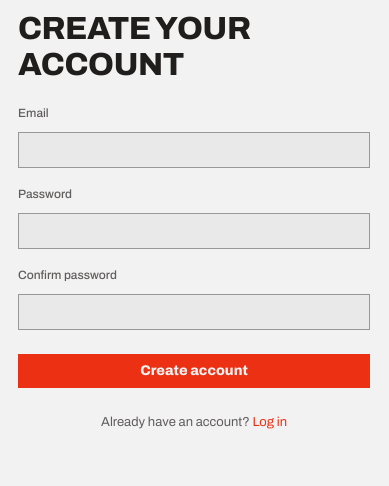
Scenario: RegisterPage › rejects a password shorter than 12 characters
Type "a@b.com" into the field labelled "Email" at {"x": 194, "y": 150}, box [18, 132, 370, 168]
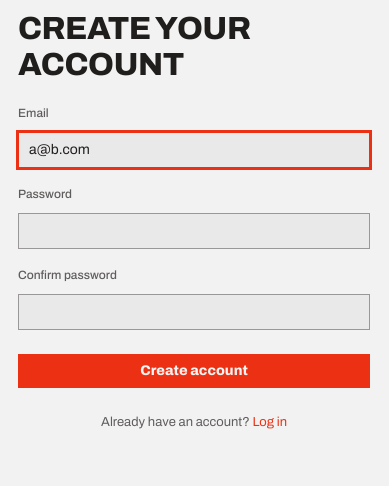
Type "short" into the password field labelled "Password" at {"x": 194, "y": 231}, box [18, 213, 370, 249]
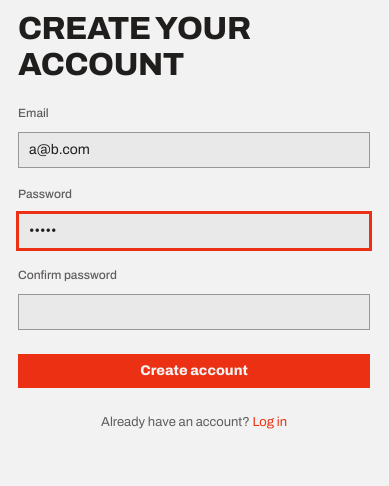
Type "short" into the password field labelled "Confirm password" at {"x": 194, "y": 312}, box [18, 294, 370, 330]
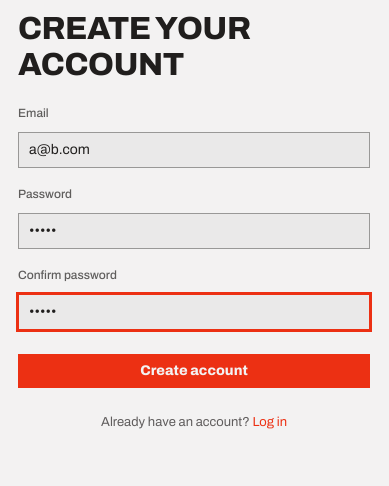
Click the button "Create account" at {"x": 194, "y": 371}, box [18, 354, 370, 388]
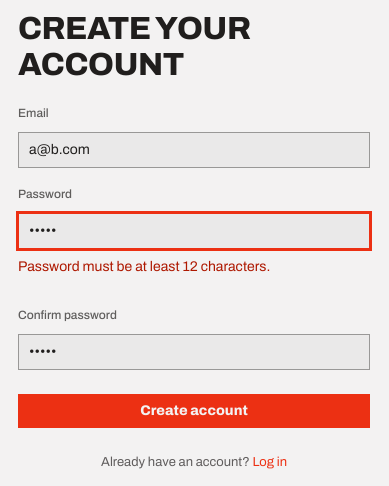
Expected: the text "Password must be at least 12 characters." is shown, [18, 259, 270, 274]
